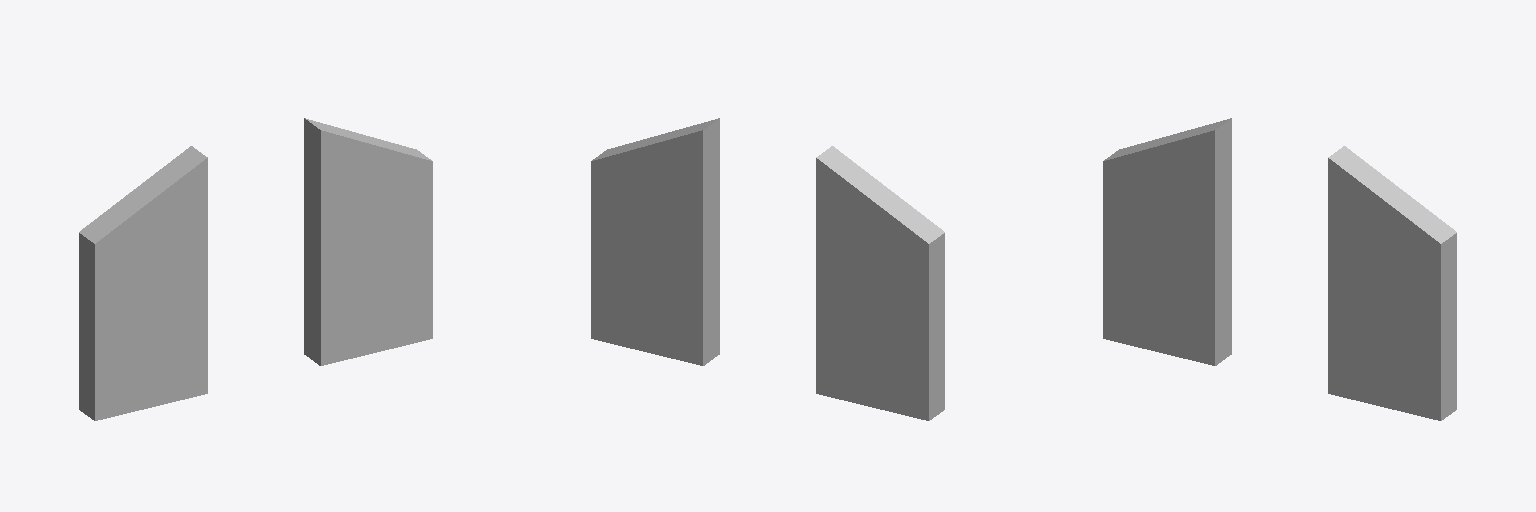
File: construct_eyes_concern.obj
3 renders of one model, left to right at view 1: azimuth 30°, elevation 25°; view 2: azimuth 150°, elevation 25°; view 3: azimuth 330°, elevation 25°, orthographic.
Parts seen in each view (by area): view 1: EYES_CONCERN_Cube.036; view 2: EYES_CONCERN_Cube.036; view 3: EYES_CONCERN_Cube.036.
Part boxes in pixels (left/top/right/bottom): EYES_CONCERN_Cube.036: left=79, top=118, right=432, bottom=420; EYES_CONCERN_Cube.036: left=591, top=118, right=944, bottom=420; EYES_CONCERN_Cube.036: left=1103, top=118, right=1456, bottom=420.
Bounding box in the file's own units: 0.1875 × 0.125 × 0.0156.